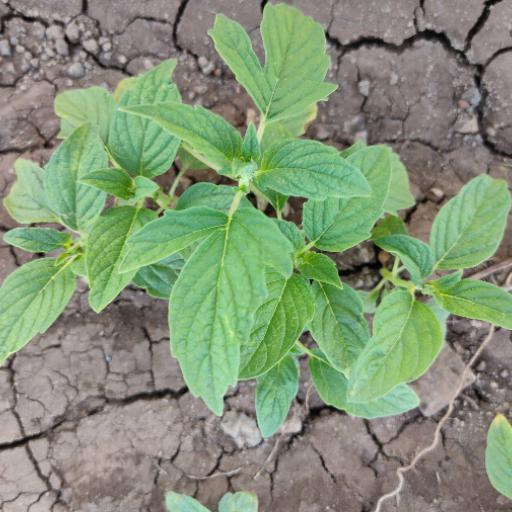crop: (1, 7, 512, 420)
